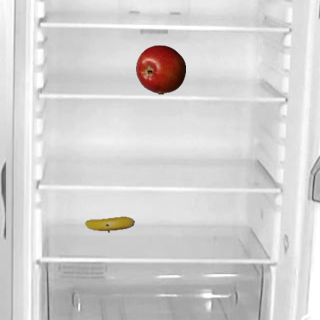Apple Braeburn: (135, 44, 185, 94)
Banana: (84, 199, 134, 249)
